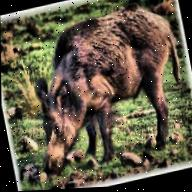boar: (13, 0, 192, 190)
